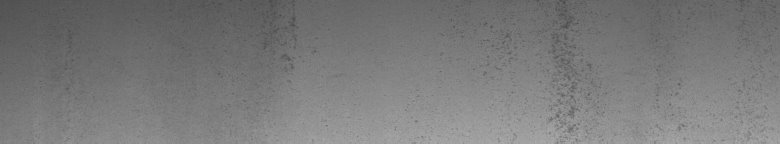ib: (484, 4, 592, 136)
